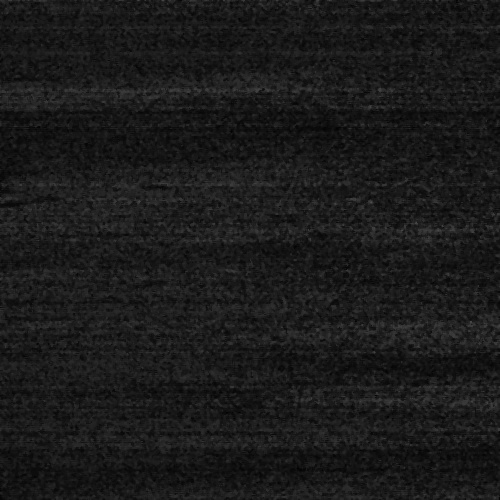object: (0, 194, 22, 199)
shadow: (6, 194, 36, 199)
